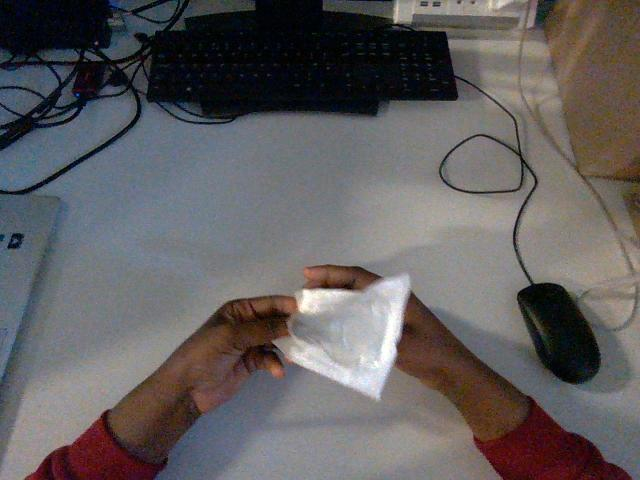syringe: (274, 274, 409, 398)
